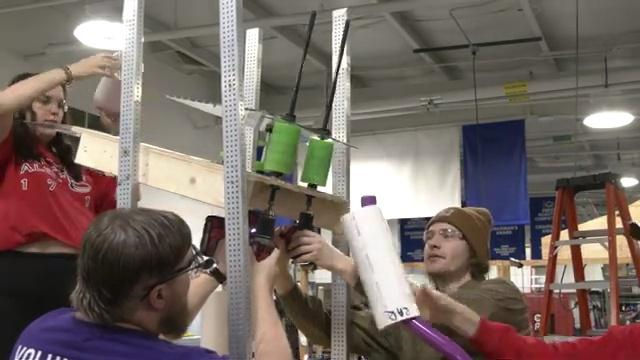CORAL: (340, 195, 421, 331), (94, 51, 122, 113)
